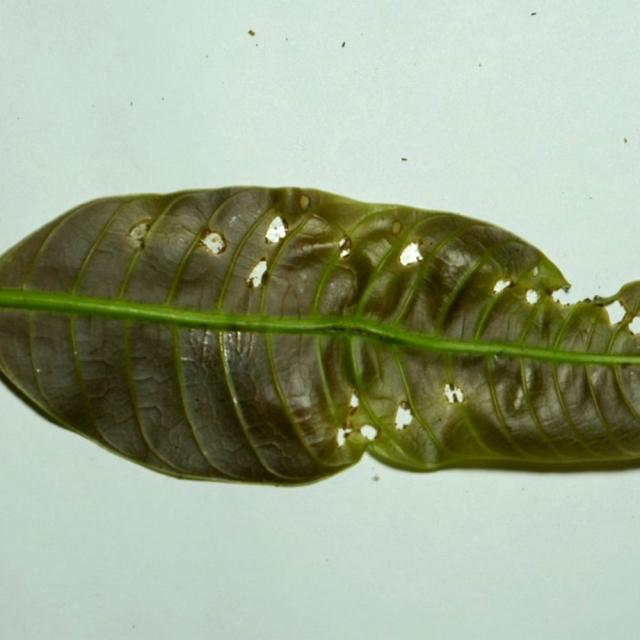Anthracnose: (397, 236, 428, 274), (264, 217, 288, 245), (199, 230, 226, 254), (246, 259, 269, 287), (394, 404, 414, 432), (444, 383, 465, 404), (129, 222, 149, 244), (357, 422, 378, 442), (616, 304, 634, 326), (492, 278, 512, 295), (525, 288, 545, 305), (339, 238, 353, 259), (513, 386, 526, 408), (598, 306, 612, 325), (336, 427, 349, 447), (389, 219, 404, 236), (555, 287, 571, 302), (348, 391, 360, 410), (299, 194, 311, 210), (631, 315, 640, 335), (230, 330, 240, 346), (246, 279, 254, 290), (532, 266, 539, 276), (248, 30, 255, 36), (622, 137, 628, 144), (341, 42, 346, 48), (531, 12, 537, 16)
Mango: (0, 187, 639, 490)
